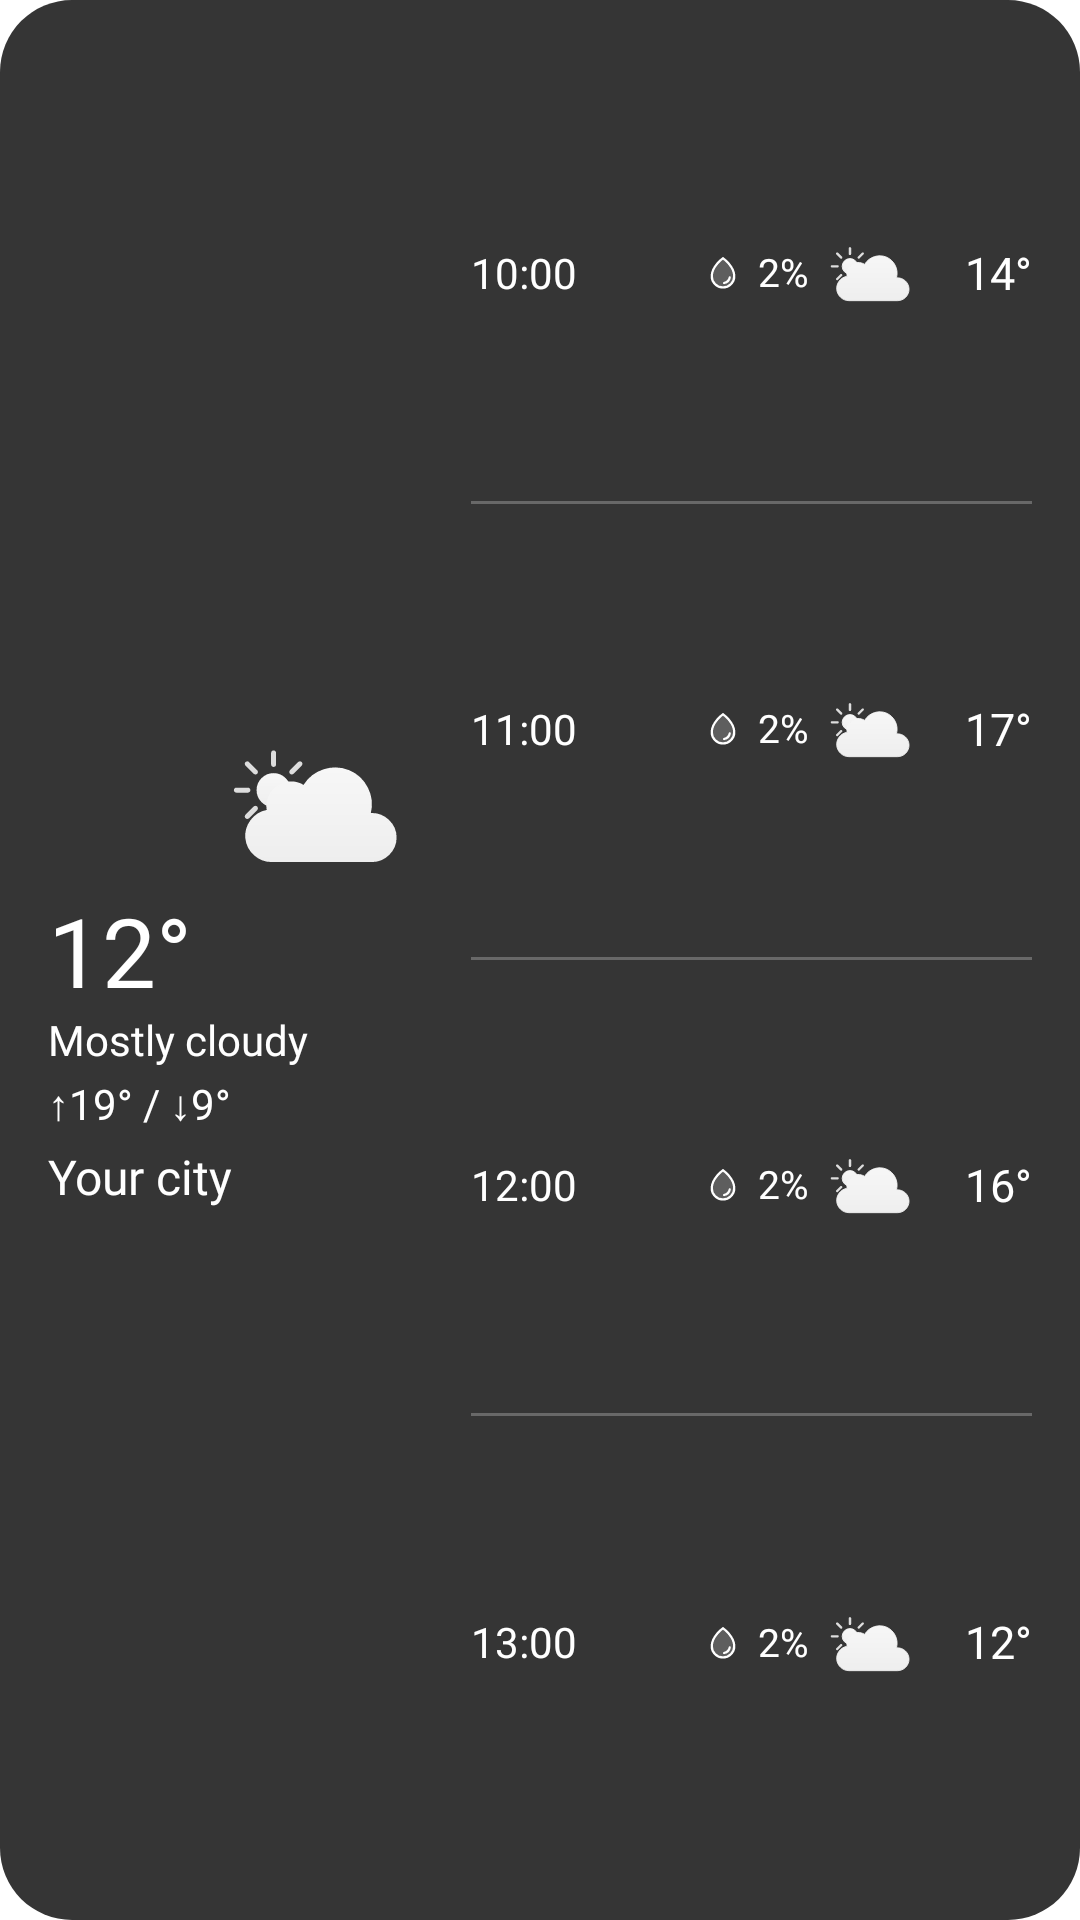

Screen size 1080×1920. Icon name, then its center in pixels as point (x, y):
Rain chance: point (723, 273), point (723, 729), point (723, 1185), point (723, 1643)
Weather condition: point (870, 274), point (870, 730), point (315, 806), point (870, 1186), point (870, 1644)
